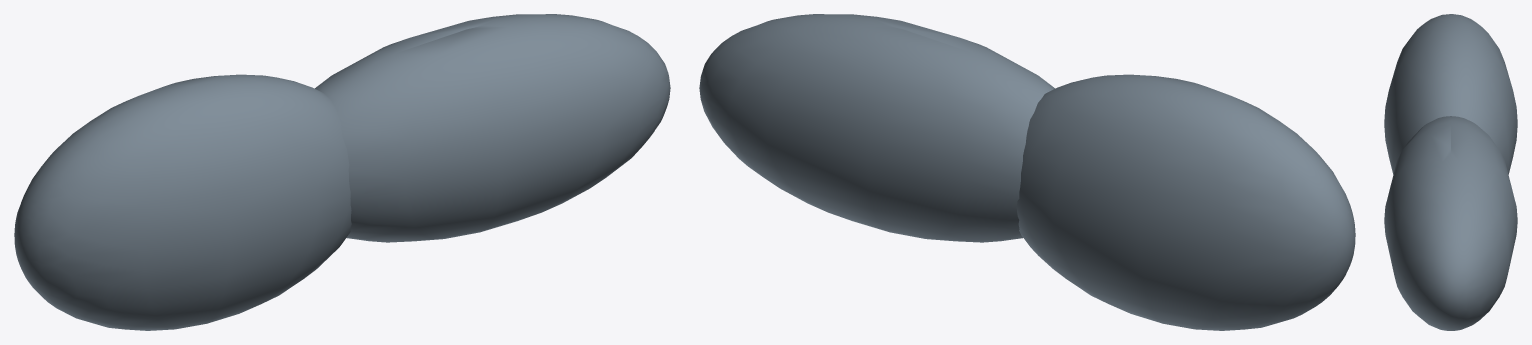
File: f46-hill-ridge-far.glb
The picture shows the model from 3 angles, left to right: view 1: azimuth 30°, elevation 25°; view 2: azimuth 150°, elevation 25°; view 3: azimuth 270°, elevation 25°; orthographic projection. The views are drawn at different scales.
Visible parts, largest first — view 1: part0, part1; view 2: part0, part1; view 3: part1, part0.
Part boxes in pixels (bbox=[...]): part0: bbox=[14, 74, 351, 330]; part1: bbox=[315, 14, 670, 242]; part0: bbox=[1016, 74, 1355, 330]; part1: bbox=[699, 14, 1054, 242]; part1: bbox=[1384, 116, 1517, 330]; part0: bbox=[1384, 14, 1517, 174].
Size of the model in its own units: 259998 by 90005 by 59956.
